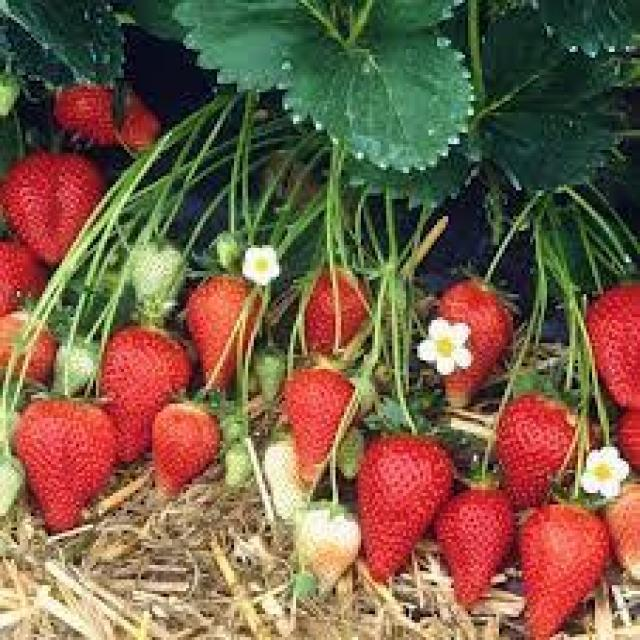Fruta sana: (355, 432, 448, 588), (524, 495, 610, 640), (98, 324, 186, 458), (22, 393, 112, 522), (187, 254, 267, 397), (11, 144, 104, 266), (496, 388, 589, 507), (436, 274, 511, 418), (432, 486, 510, 610), (49, 74, 158, 160), (584, 266, 640, 411), (294, 368, 362, 483), (303, 263, 380, 358), (144, 400, 222, 485), (1, 298, 64, 392), (0, 235, 48, 322)
